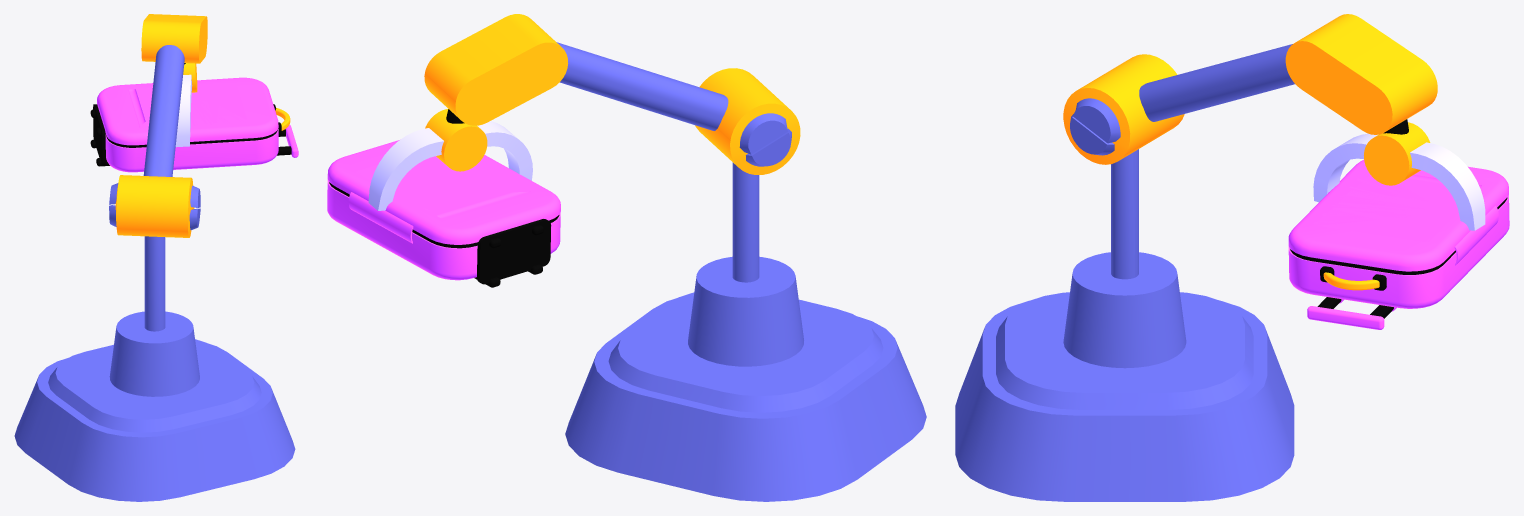
The model's file is dicoration.fbx.
3 views of the same model, side by side, from view 1: azimuth 30°, elevation 25°; view 2: azimuth 150°, elevation 25°; view 3: azimuth 270°, elevation 25° (orthographic). The views are drawn at different scales.
Visible parts, largest first — view 1: Cube.047; view 2: Cube.047; view 3: Cube.047.
Part boxes in pixels (x1,y1,x2,y2): Cube.047: (14,14,298,501); Cube.047: (327,14,926,501); Cube.047: (955,14,1509,501).
Bounding box in the file's own units: 449 × 434 × 470.
